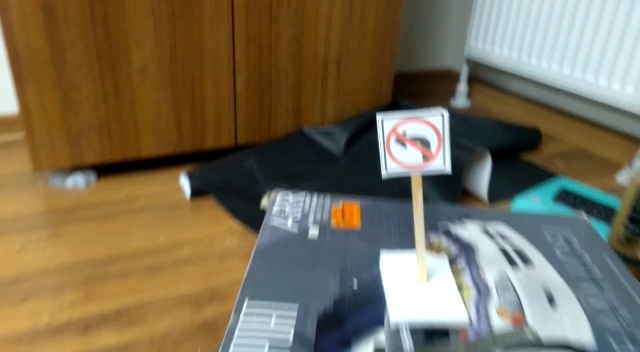sola_donulmez: (386, 113, 446, 172)
